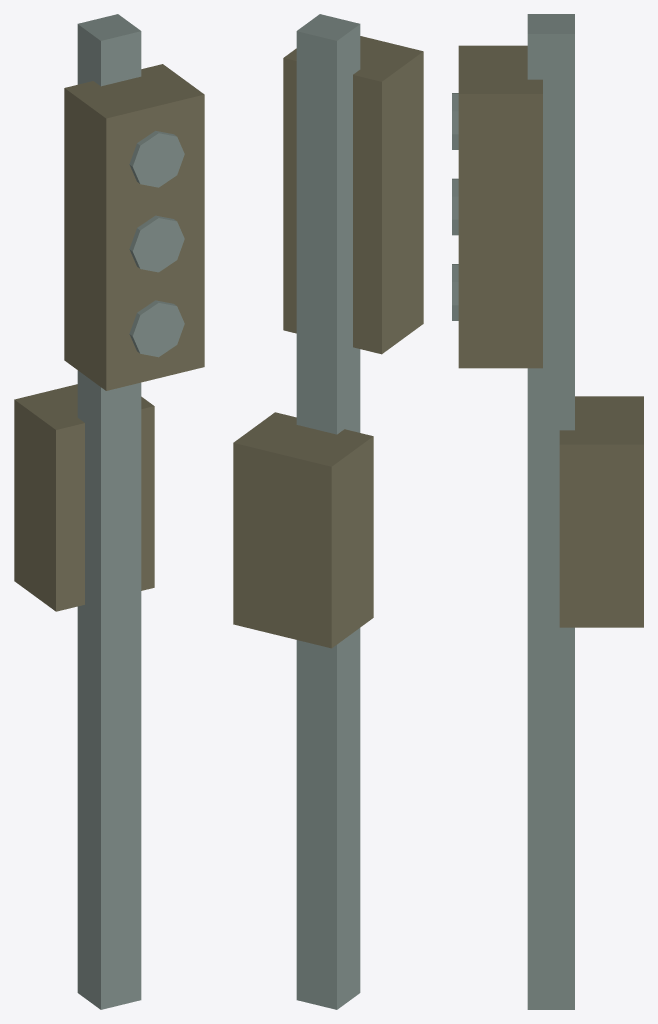
File: SM_Semaforo_v2_Peatonal_LOD0.fbx
The picture shows the model from 3 angles, left to right: view 1: azimuth 30°, elevation 25°; view 2: azimuth 150°, elevation 25°; view 3: azimuth 270°, elevation 25°; orthographic projection.
Visible parts, largest first — view 1: SM_urbano_extra_v22_LOD0; view 2: SM_urbano_extra_v22_LOD0; view 3: SM_urbano_extra_v22_LOD0.
Boxes of the visible parts, x1,y1,x2,y2 form: SM_urbano_extra_v22_LOD0: (14, 14, 204, 1009); SM_urbano_extra_v22_LOD0: (233, 14, 423, 1009); SM_urbano_extra_v22_LOD0: (452, 14, 643, 1009).
Bounding box in the file's own units: 0.34 × 3.2 × 0.57.
